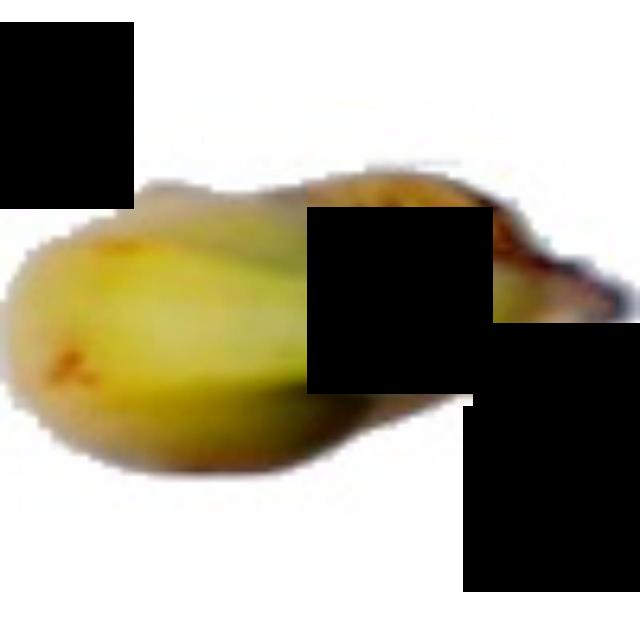banana: (2, 109, 640, 492)
